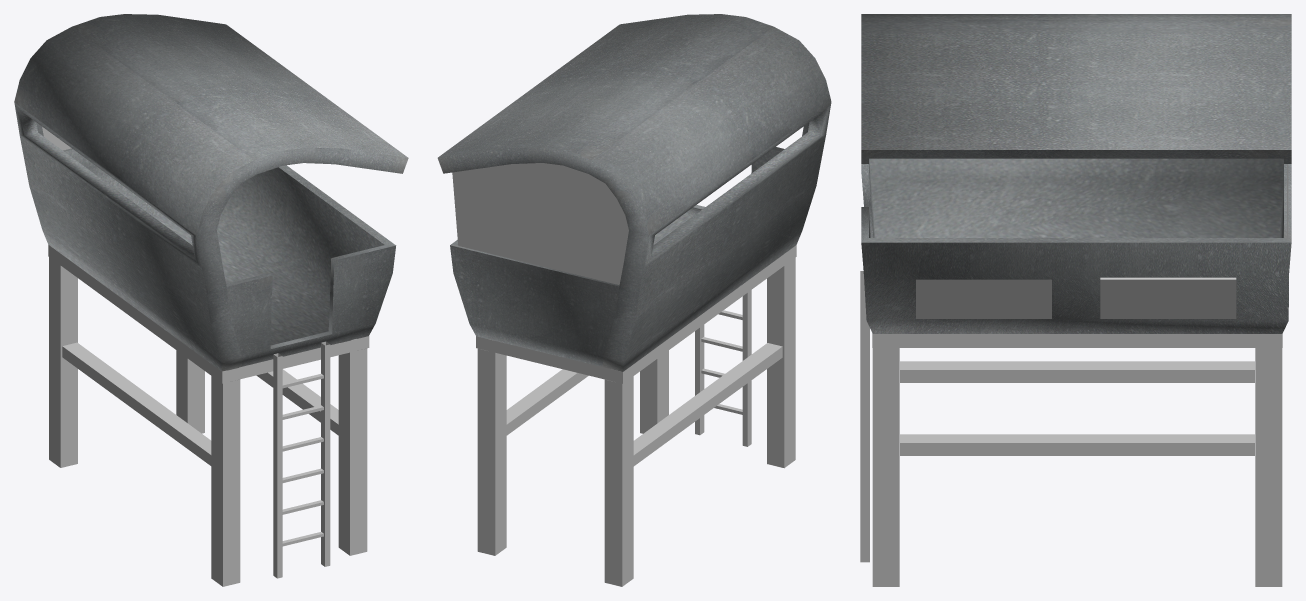
File: Cabin-FB.fbx
3 views of the same model, side by side, from view 1: azimuth 30°, elevation 25°; view 2: azimuth 150°, elevation 25°; view 3: azimuth 270°, elevation 25° (orthographic). The views are drawn at different scales.
Visible parts, largest first — view 1: Cabin-F; view 2: Cabin-F; view 3: Cabin-F.
Part boxes in pixels (<box>): Cabin-F: <box>14,14,408,586</box>; Cabin-F: <box>437,14,831,586</box>; Cabin-F: <box>860,14,1291,586</box>.
Bounding box in the file's own units: 351 × 675 × 524.
